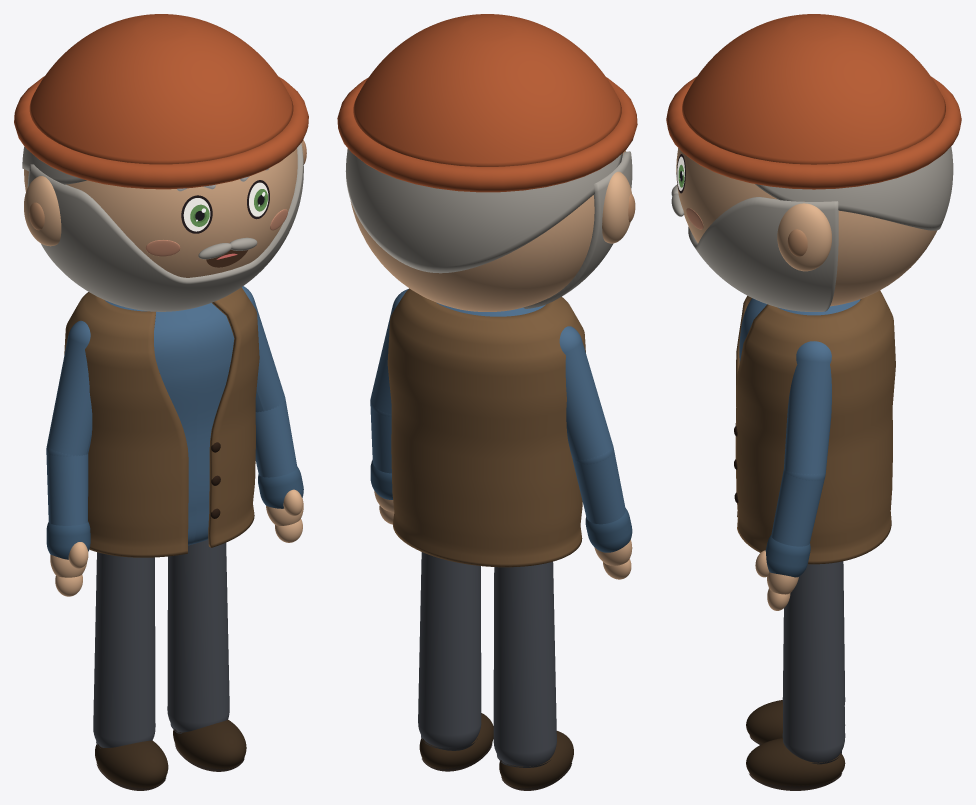
File: ruilmarktverkoper.glb
3 views of the same model, side by side, from view 1: azimuth 30°, elevation 25°; view 2: azimuth 150°, elevation 25°; view 3: azimuth 270°, elevation 25° (orthographic).
Visible parts, largest first — view 1: ruilmarktverkoper_vest, ruilmarktverkoper_muts, ruilmarktverkoper_baard, ruilmarktverkoper_hoofd, ruilmarktverkoper_been_R, ruilmarktverkoper_been_L, ruilmarktverkoper_romp, ruilmarktverkoper_muts_rand, ruilmarktverkoper_bovenarm_R, ruilmarktverkoper_onderarm_R, ruilmarktverkoper_schoen_R, ruilmarktverkoper_schoen_L (+6 smaller); view 2: ruilmarktverkoper_vest, ruilmarktverkoper_muts, ruilmarktverkoper_haar, ruilmarktverkoper_been_R, ruilmarktverkoper_been_L, ruilmarktverkoper_hoofd, ruilmarktverkoper_muts_rand, ruilmarktverkoper_bovenarm_R, ruilmarktverkoper_onderarm_R, ruilmarktverkoper_baard, ruilmarktverkoper_schoen_R, ruilmarktverkoper_oor_R (+5 smaller); view 3: ruilmarktverkoper_muts, ruilmarktverkoper_vest, ruilmarktverkoper_been_L, ruilmarktverkoper_baard, ruilmarktverkoper_hoofd, ruilmarktverkoper_muts_rand, ruilmarktverkoper_haar, ruilmarktverkoper_bovenarm_L, ruilmarktverkoper_schoen_L, ruilmarktverkoper_onderarm_L, ruilmarktverkoper_oor_L, ruilmarktverkoper_manchet_L (+3 smaller).
Part boxes in pixels (x1,y1,x2,y2): ruilmarktverkoper_vest: (64,287,259,557); ruilmarktverkoper_muts: (29,14,293,164); ruilmarktverkoper_baard: (27,143,303,311); ruilmarktverkoper_hoofd: (24,148,297,277); ruilmarktverkoper_been_R: (93,552,155,747); ruilmarktverkoper_been_L: (167,539,229,732); ruilmarktverkoper_romp: (105,300,234,545); ruilmarktverkoper_muts_rand: (14,76,308,189); ruilmarktverkoper_bovenarm_R: (47,320,92,456); ruilmarktverkoper_onderarm_R: (46,450,88,525); ruilmarktverkoper_schoen_R: (95,740,168,788); ruilmarktverkoper_schoen_L: (173,719,246,769); ruilmarktverkoper_vest: (387,288,585,567); ruilmarktverkoper_muts: (353,14,621,166); ruilmarktverkoper_haar: (345,149,622,273); ruilmarktverkoper_been_R: (493,561,556,766); ruilmarktverkoper_been_L: (418,552,481,748); ruilmarktverkoper_hoofd: (350,150,625,311); ruilmarktverkoper_muts_rand: (337,77,637,192); ruilmarktverkoper_bovenarm_R: (559,326,612,464); ruilmarktverkoper_onderarm_R: (572,449,625,524); ruilmarktverkoper_baard: (523,151,632,308); ruilmarktverkoper_schoen_R: (499,731,573,788); ruilmarktverkoper_oor_R: (602,171,631,243); ruilmarktverkoper_muts: (682,14,945,164); ruilmarktverkoper_vest: (735,290,895,564); ruilmarktverkoper_been_L: (782,561,845,762); ruilmarktverkoper_baard: (688,197,838,311); ruilmarktverkoper_hoofd: (676,148,936,306); ruilmarktverkoper_muts_rand: (666,76,961,189); ruilmarktverkoper_haar: (755,146,953,230); ruilmarktverkoper_bovenarm_L: (784,341,831,480); ruilmarktverkoper_schoen_L: (746,738,845,786); ruilmarktverkoper_onderarm_L: (771,469,824,546); ruilmarktverkoper_oor_L: (777,201,831,271); ruilmarktverkoper_manchet_L: (765,535,810,577).
Bounding box in the file's own units: 0.6887 × 1.78 × 0.644.
